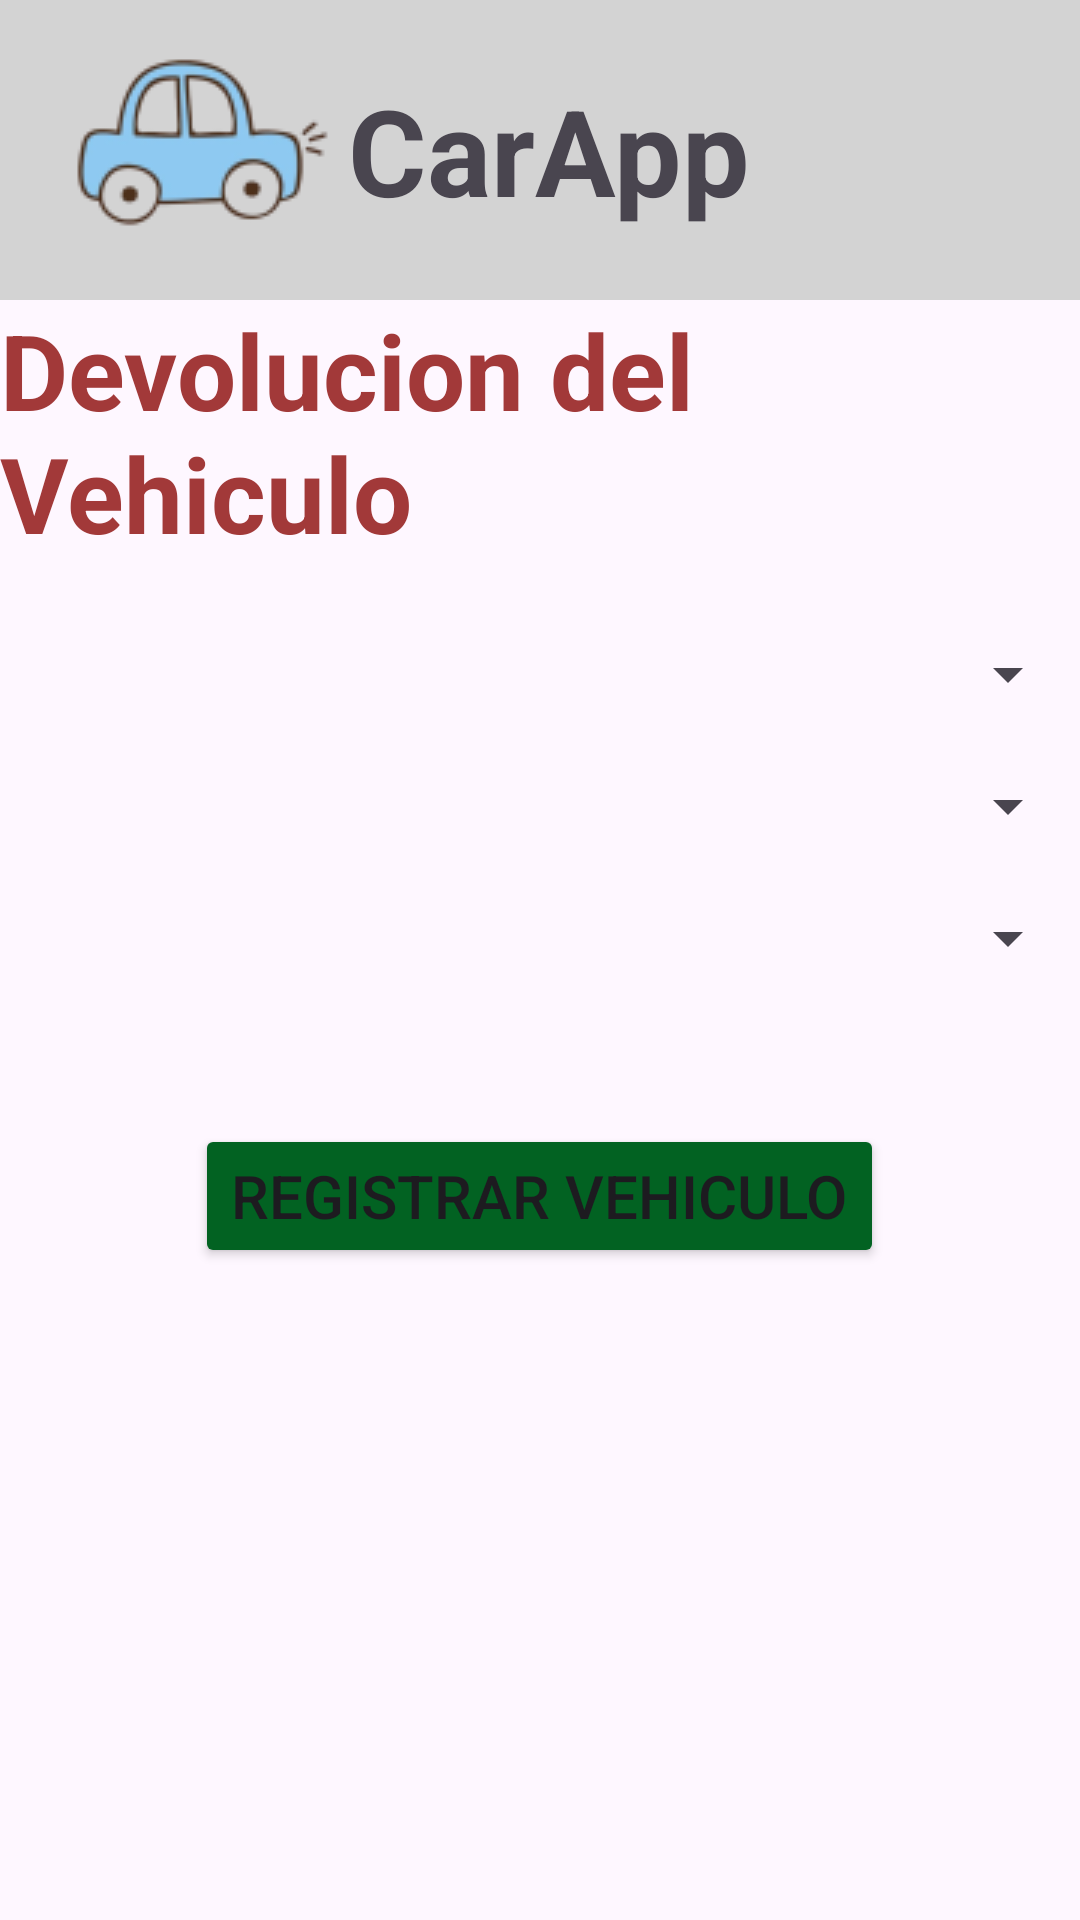

Screen size 1080 x 1920. Icon name, then its center in pixels as (x=x, y=y):
carrito: (x=202, y=142)
